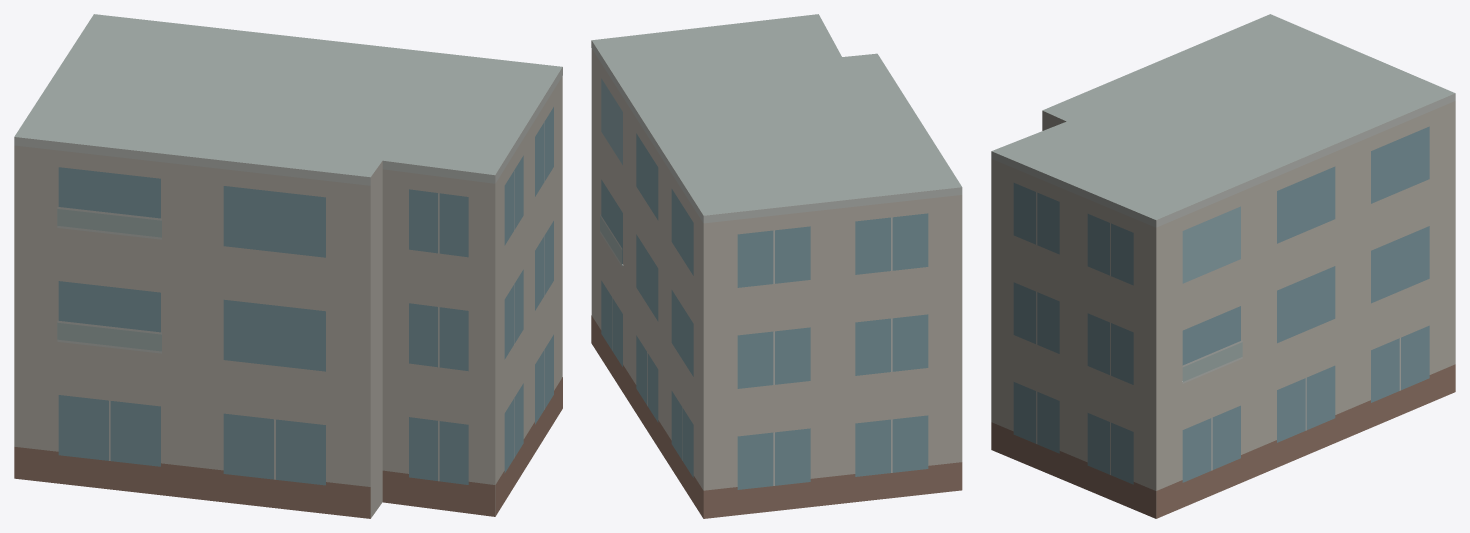
Rendered from survey-upis-32649316.glb.
The picture shows the model from 3 angles, left to right: view 1: azimuth 30°, elevation 25°; view 2: azimuth 150°, elevation 25°; view 3: azimuth 270°, elevation 25°; orthographic projection. The views are drawn at different scales.
Parts seen in each view (by area): view 1: survey-upis-32649316.tmp; view 2: survey-upis-32649316.tmp; view 3: survey-upis-32649316.tmp.
Part boxes in pixels (box(x1,y1,x2,y2)): survey-upis-32649316.tmp: box(14, 14, 562, 518); survey-upis-32649316.tmp: box(591, 14, 962, 518); survey-upis-32649316.tmp: box(991, 14, 1455, 518).
Bounding box in the file's own units: 14.37 × 9.7 × 13.67.
